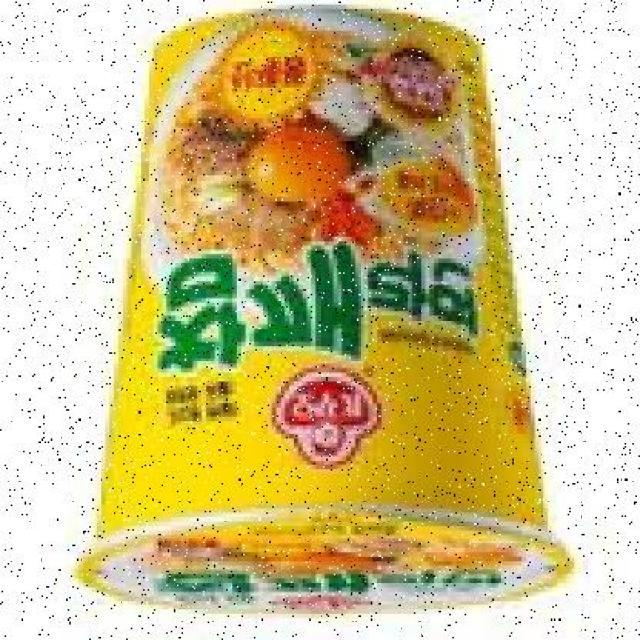Miscellaneous: (74, 0, 570, 614)
